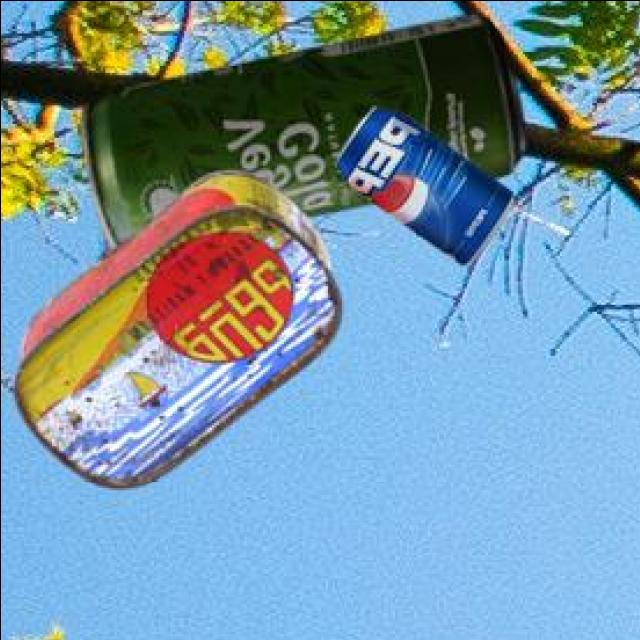logam: (85, 10, 528, 245), (17, 166, 344, 483), (340, 103, 516, 261)
